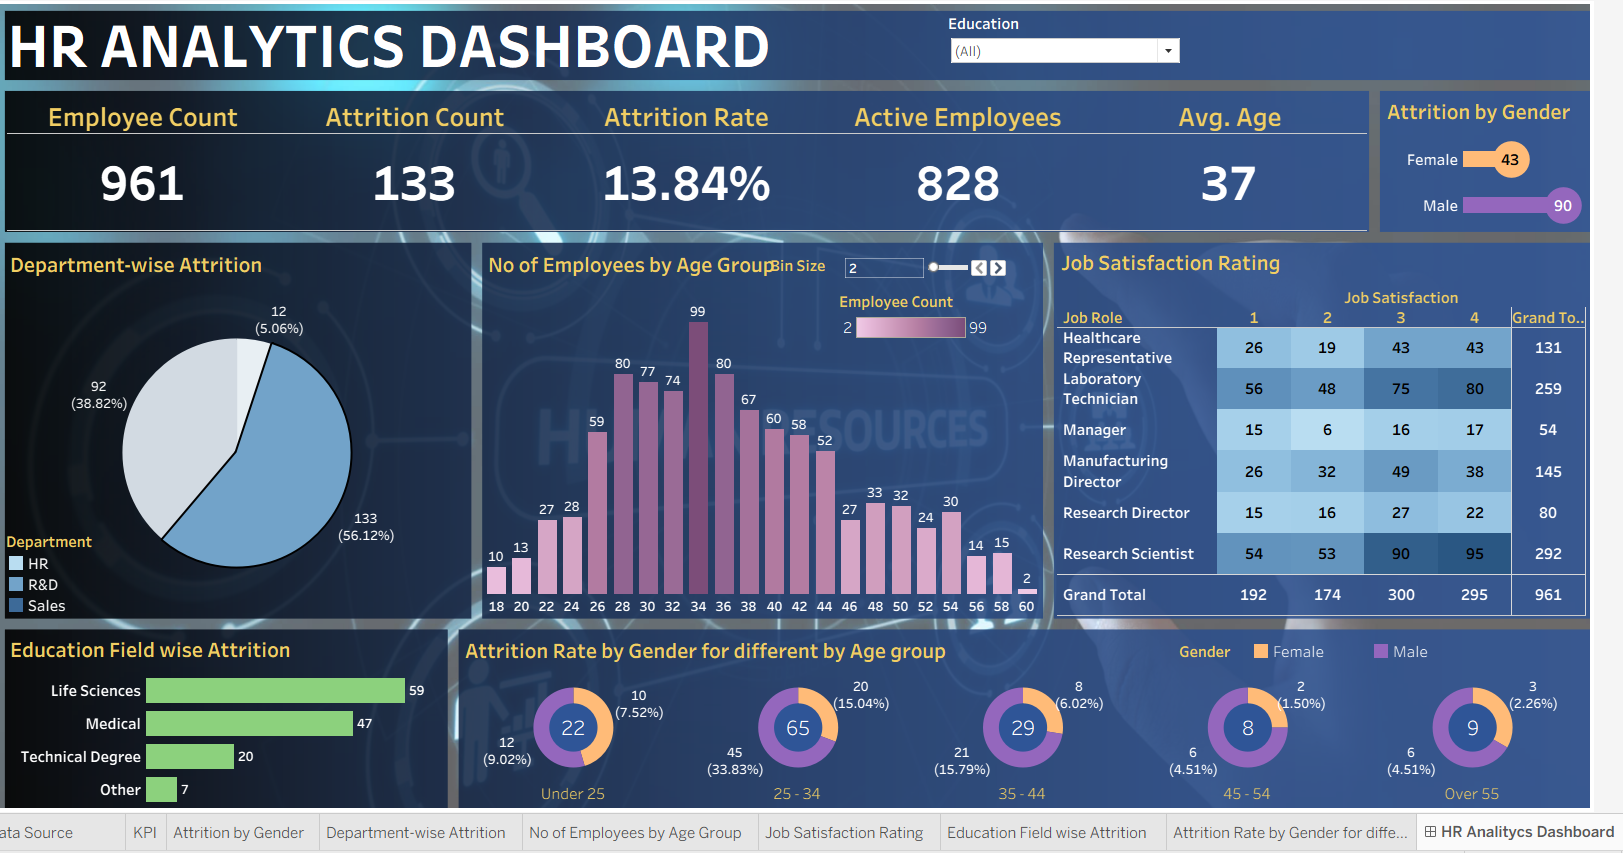

This screenshot's page, from the dashboard's own definition file:
{"tool":"tableau","page":{"name":"HR Analitycs Dashboard","canvas":[1000,1000],"units":"permille","ordinal":0},"visuals":[{"type":"image","param":"C:/Users/Kanan/Desktop/Tableau/HR- Tableau/HR background Final.png","box":[0,0,1000,1000]},{"type":"text","box":[6.2,14.8,717.5,77.6]},{"type":"filter","title":"Department-wise Attrition","param":"[federated.1bobv2n0bf6pw71dfp9no1y5hi3d].[none:Education:nk]","box":[596.2,16,146.9,77.6]},{"type":"worksheet","title":"KPI","mark":"Automatic","box":[8.1,114.5,850,170]},{"type":"worksheet","title":"Attrition by Gender","mark":"Automatic","rows":["Gender"],"cols":["Calculation_0848844847984640","Calculation_0848844847984640"],"box":[868.1,114.5,127.5,166.3]},{"type":"worksheet","title":"Job Satisfaction Rating","mark":"Square","rows":["Job Role"],"cols":["Job Satisfaction"],"box":[664.4,300.5,330.6,458.1]},{"type":"worksheet","title":"Department-wise Attrition","mark":"Pie","box":[7.5,303,288.1,455.7]},{"type":"worksheet","title":"No of Employees by Age Group","mark":"Automatic","rows":["Employee Count"],"cols":["Age (bin)"],"box":[306.2,303,347.5,455.7]},{"type":"parameter","param":"[Parameters].[Parameter 1]","box":[484.8,313.8,149.4,40]},{"type":"legend","title":"No of Employees by Age Group","param":"[federated.1bobv2n0bf6pw71dfp9no1y5hi3d].[sum:Employee Count:qk]","box":[528,358.8,95.7,66.2]},{"type":"legend","title":"Department-wise Attrition","param":"[federated.1bobv2n0bf6pw71dfp9no1y5hi3d].[none:Department:nk]","box":[7.3,653.8,85.4,106.2]},{"type":"worksheet","title":"Education Field wise Attrition","mark":"Automatic","rows":["Education Field"],"cols":["Calculation_0848844847984640"],"box":[7.5,777.1,274.4,215.5]},{"type":"worksheet","title":"Attrition Rate by Gender for different by Age group","mark":"Pie","rows":["Calculation_1076721103503361","Calculation_1076721103503361"],"cols":["CF_age band"],"box":[291.9,778.3,702.5,213.1]},{"type":"legend","title":"Attrition Rate by Gender for different by Age group","param":"[federated.1bobv2n0bf6pw71dfp9no1y5hi3d].[none:Gender:nk]","box":[740.9,790,227.4,31.2]}]}

Visuals, with their boxes on the dashboard's canvas, which has no fixed pixel size, in thousandths of its width and height (x1, y1, x2, y2). These are canvas units, not pixel positions in the 1623x853 screenshot, which may show the page scaled, cropped or inside an application window:
image: detection(0, 0, 1000, 1000)
text: detection(6, 15, 724, 92)
"Department-wise Attrition" filter: detection(596, 16, 743, 94)
"KPI" worksheet: detection(8, 114, 858, 284)
"Attrition by Gender" worksheet: detection(868, 114, 996, 281)
"Job Satisfaction Rating" worksheet (Square marks): detection(664, 300, 995, 759)
"Department-wise Attrition" worksheet (Pie marks): detection(8, 303, 296, 759)
"No of Employees by Age Group" worksheet: detection(306, 303, 654, 759)
parameter: detection(485, 314, 634, 354)
"No of Employees by Age Group" legend: detection(528, 359, 624, 425)
"Department-wise Attrition" legend: detection(7, 654, 93, 760)
"Education Field wise Attrition" worksheet: detection(8, 777, 282, 993)
"Attrition Rate by Gender for different by Age group" worksheet (Pie marks): detection(292, 778, 994, 991)
"Attrition Rate by Gender for different by Age group" legend: detection(741, 790, 968, 821)
